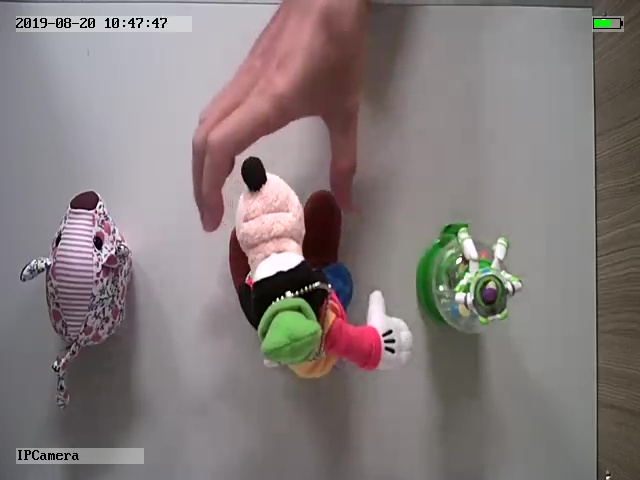buzz: (416, 222, 524, 337)
goofy: (227, 157, 415, 385)
pig: (20, 187, 139, 409)
